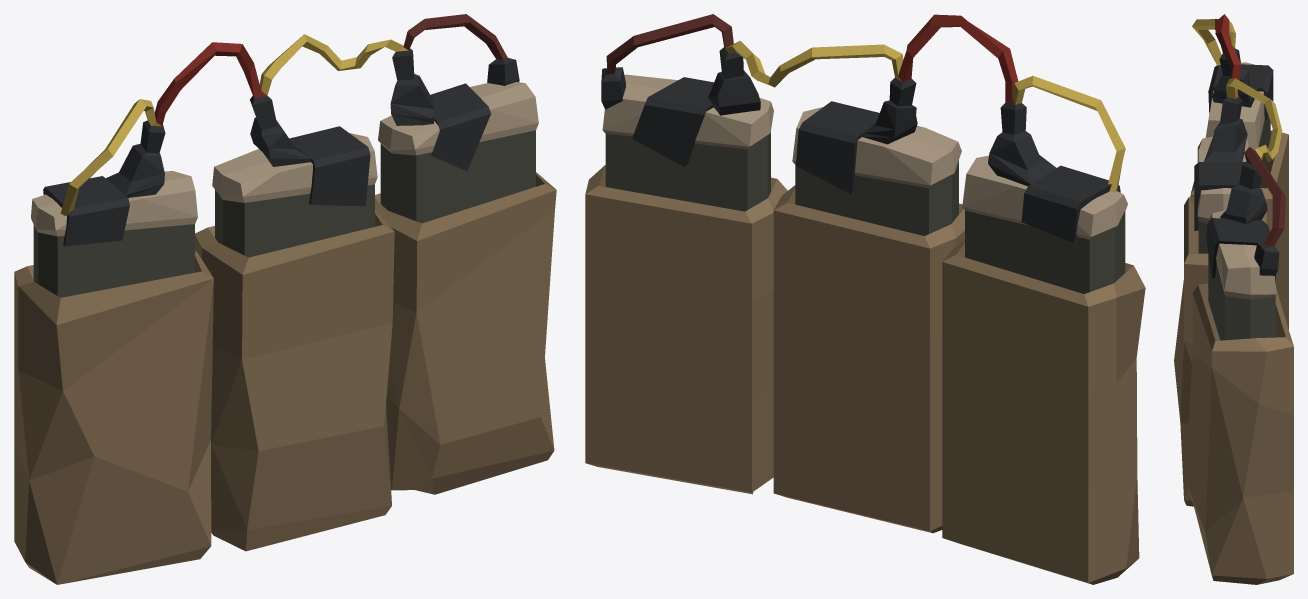
Rendered from SM_Chr_Attach_Bomb_C4_02.fbx.
The picture shows the model from 3 angles, left to right: view 1: azimuth 30°, elevation 25°; view 2: azimuth 150°, elevation 25°; view 3: azimuth 270°, elevation 25°; orthographic projection. The views are drawn at different scales.
Parts seen in each view (by area): view 1: SM_Chr_Attach_Bomb_C4_02; view 2: SM_Chr_Attach_Bomb_C4_02; view 3: SM_Chr_Attach_Bomb_C4_02.
Boxes of the visible parts, left/top/right/bottom form: SM_Chr_Attach_Bomb_C4_02: left=14, top=14, right=556, bottom=584; SM_Chr_Attach_Bomb_C4_02: left=585, top=14, right=1145, bottom=584; SM_Chr_Attach_Bomb_C4_02: left=1174, top=14, right=1293, bottom=584.
Size of the model in its own units: 30.64 by 27.89 by 7.04.
